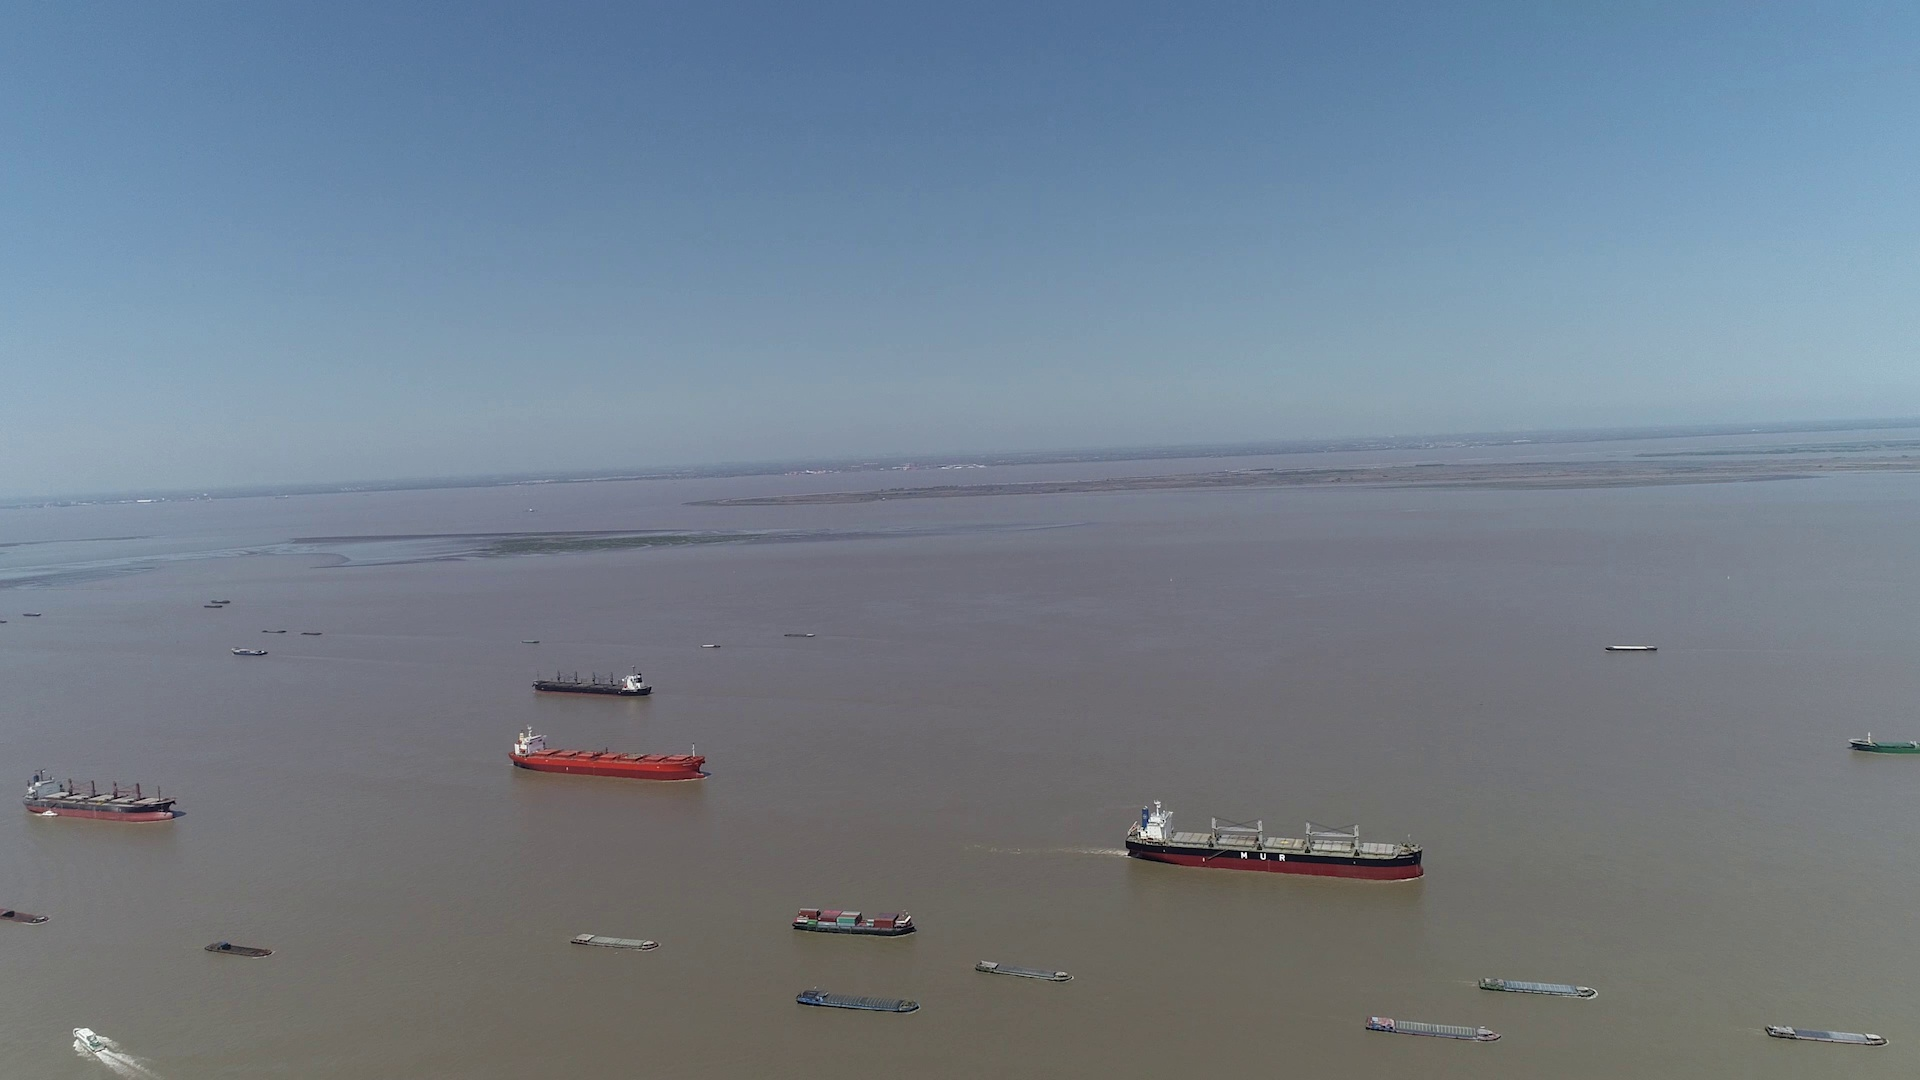ship: (1126, 800, 1422, 882), (508, 724, 703, 779), (22, 767, 179, 823), (518, 686, 673, 732), (789, 969, 919, 1005), (790, 907, 918, 938), (1365, 1015, 1502, 1043), (531, 667, 651, 696), (1764, 1021, 1888, 1046), (794, 988, 918, 1013), (1478, 976, 1597, 1000), (972, 959, 1072, 981), (570, 931, 659, 951), (1847, 735, 1920, 756), (71, 1029, 119, 1058), (203, 942, 274, 957), (0, 906, 47, 924), (1606, 644, 1658, 651), (231, 647, 266, 655)
